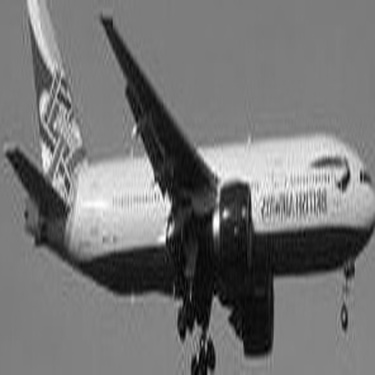airplane: (6, 9, 369, 372)
